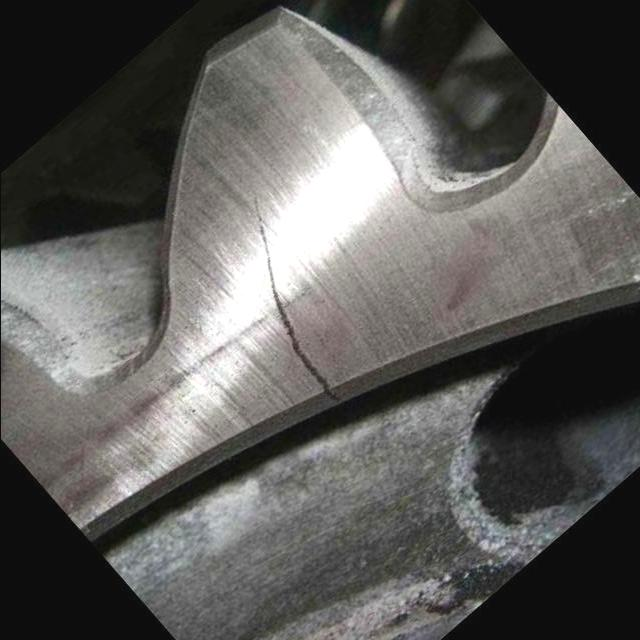defect: (247, 187, 345, 408)
